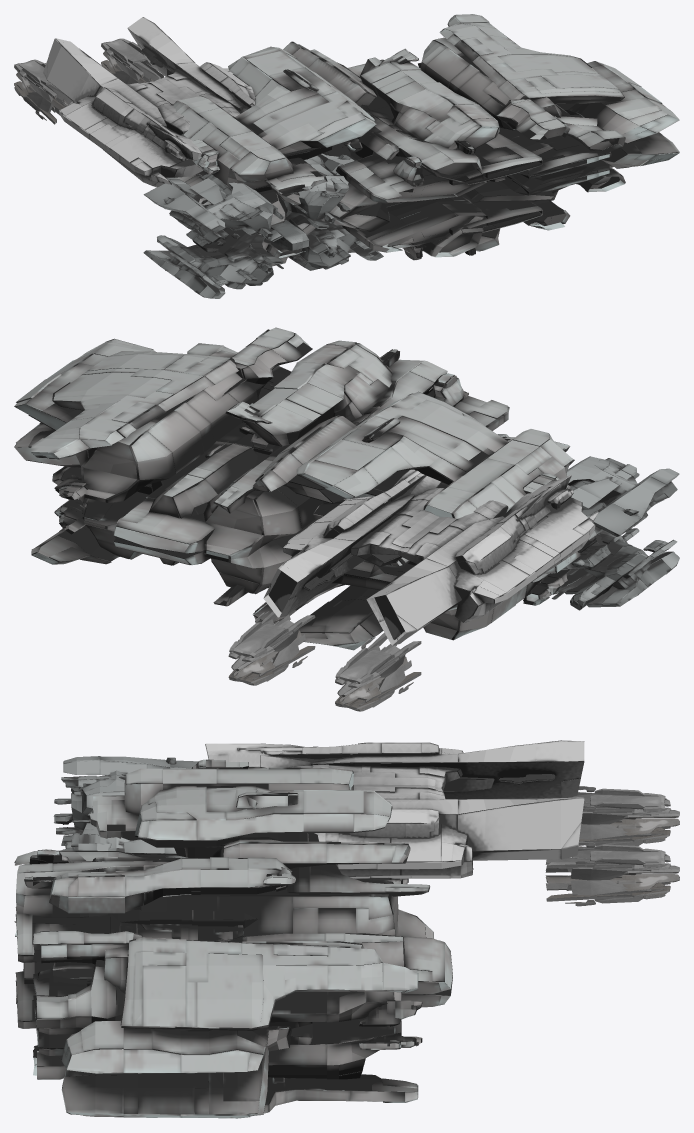
The model's file is DREADNOUGHT_005.fbx.
The picture shows the model from 3 angles, top to bottom: view 1: azimuth 30°, elevation 25°; view 2: azimuth 150°, elevation 25°; view 3: azimuth 270°, elevation 25°; orthographic projection. The views are drawn at different scales.
Visible parts, largest first — view 1: DREADNOUGHT_005; view 2: DREADNOUGHT_005; view 3: DREADNOUGHT_005.
Boxes of the visible parts, box(x1,y1,x2,y2) form: DREADNOUGHT_005: box(14, 14, 679, 298); DREADNOUGHT_005: box(14, 327, 679, 711); DREADNOUGHT_005: box(14, 740, 679, 1118).
Size of the model in its own units: 119 by 36.2 by 108.
